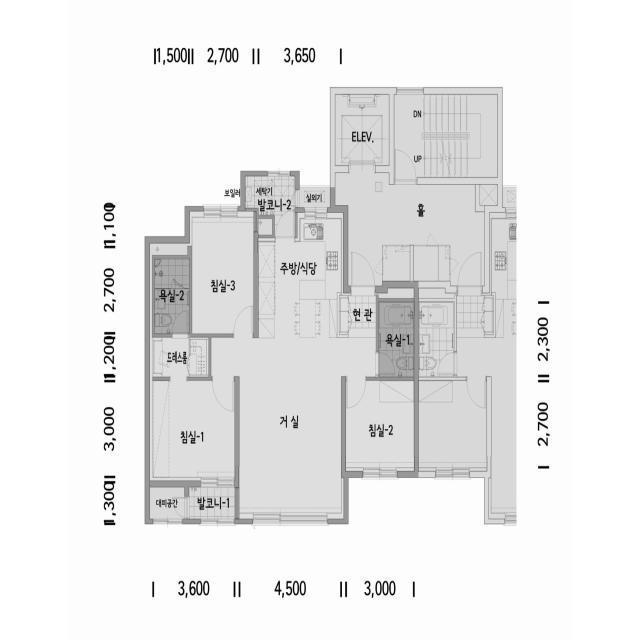space_balconi: (245, 176, 295, 237), (190, 487, 235, 519)
space_bedroom: (150, 380, 235, 481), (190, 212, 254, 334), (346, 380, 414, 471)
space_dressroom: (150, 337, 209, 377)
space_elevator: (335, 95, 389, 166)
space_elevator_hall: (335, 173, 484, 286)
space_front: (339, 293, 376, 338)
space_kitchen: (258, 212, 344, 338)
space_living_room: (211, 338, 376, 519)
space_other: (413, 246, 450, 281), (150, 487, 184, 519), (383, 246, 410, 281), (480, 185, 497, 205), (258, 219, 272, 235)
space_outdoor_room: (300, 187, 330, 208)
space_staircase: (394, 95, 497, 177)
space_toilet: (154, 259, 190, 334), (379, 301, 414, 377)
